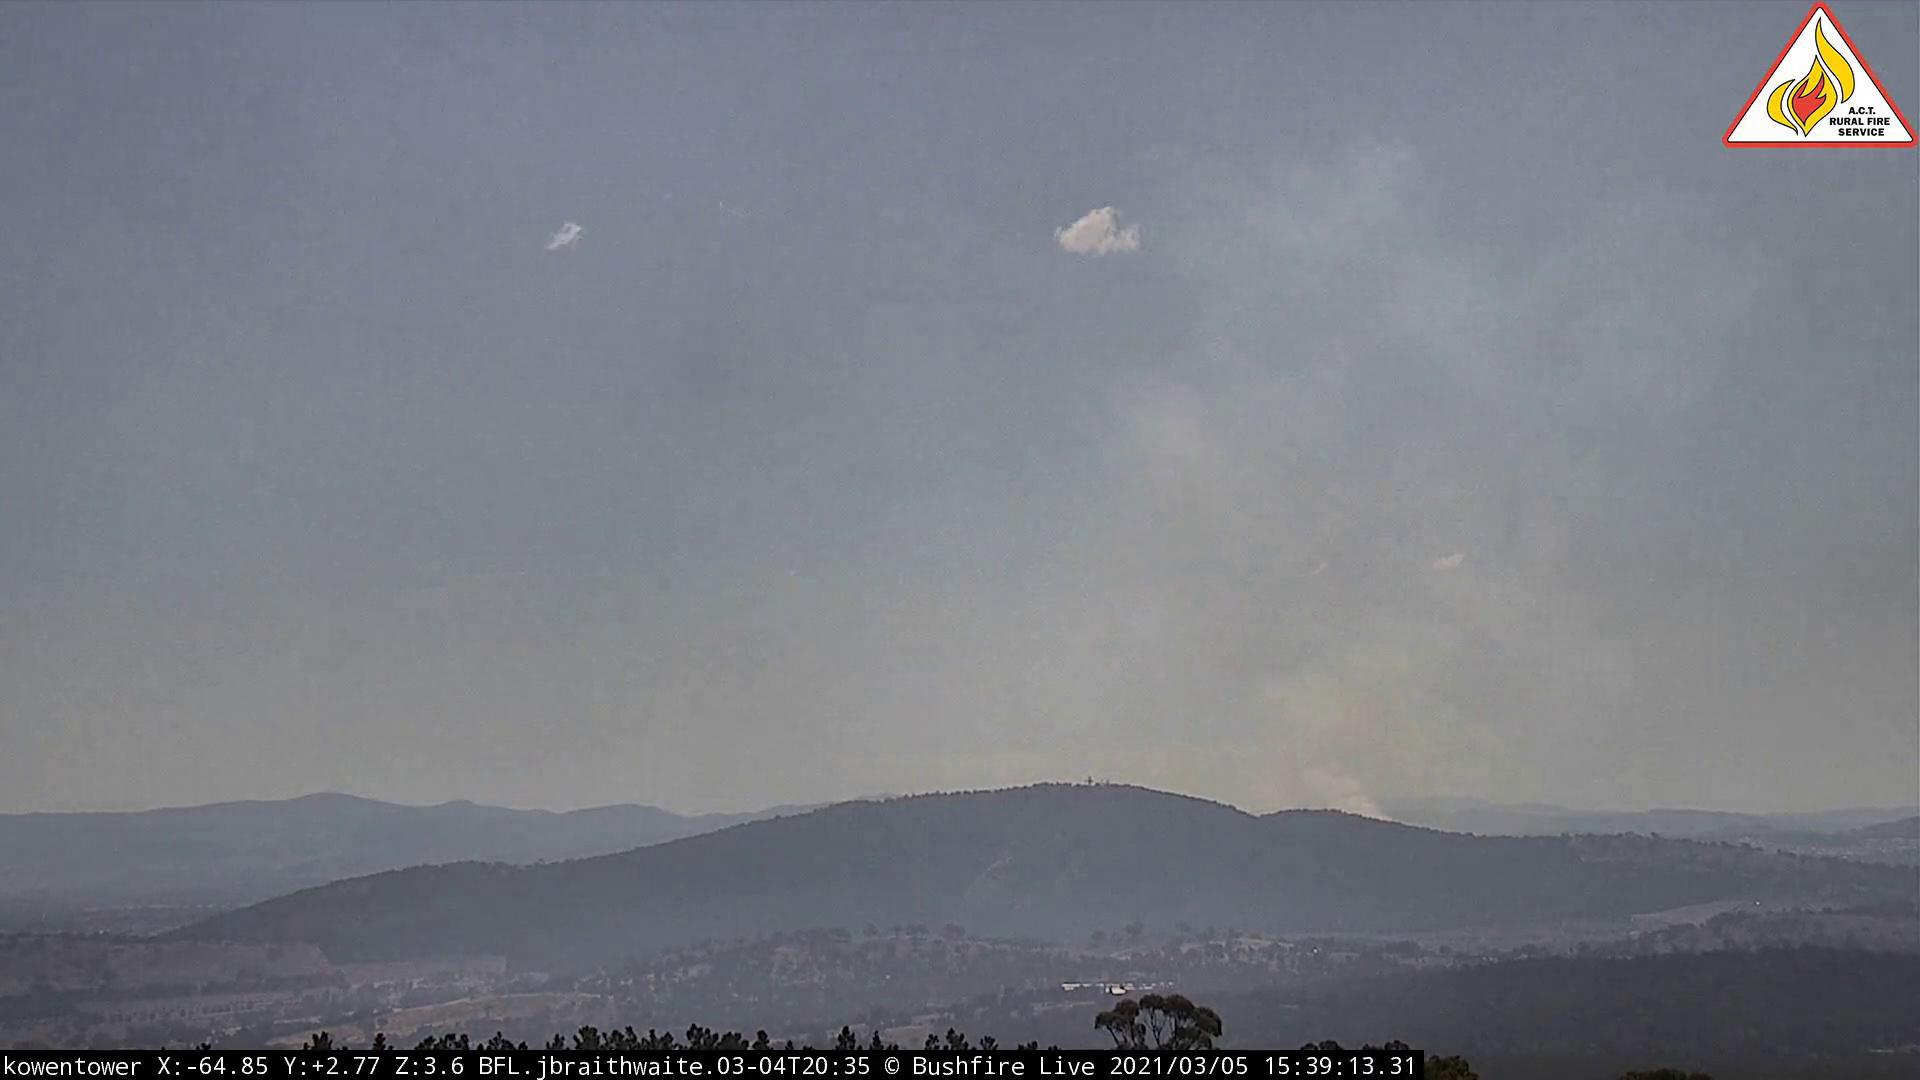Smoke: (851, 160, 1803, 829)
